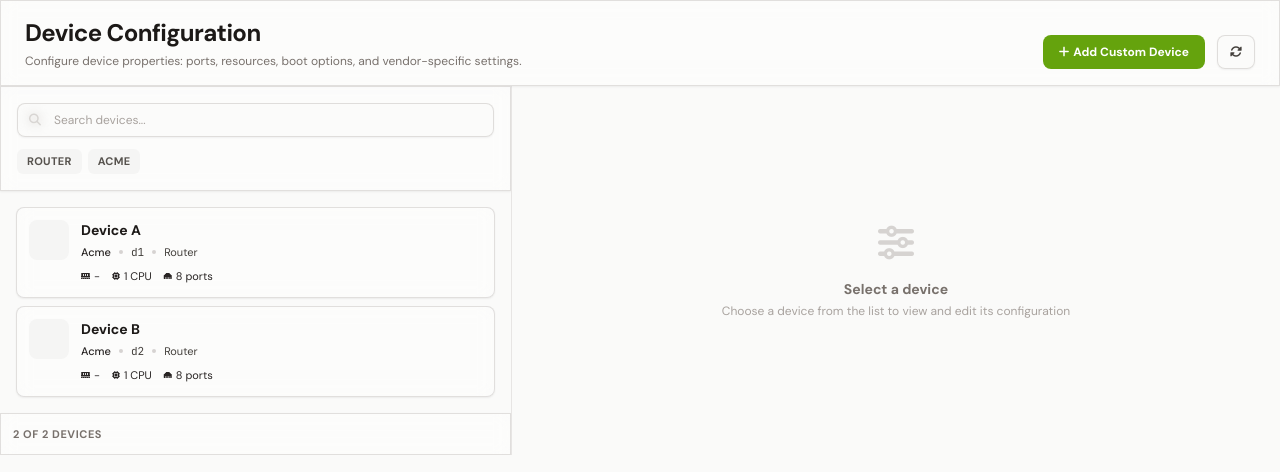
Test: DeviceConfigManager - interactions › filters devices by tag match
This screenshot has width=1280, height=472.
Type "core" into the field with placeholder "Search devices..." at point(256, 120), box [17,103,494,137]
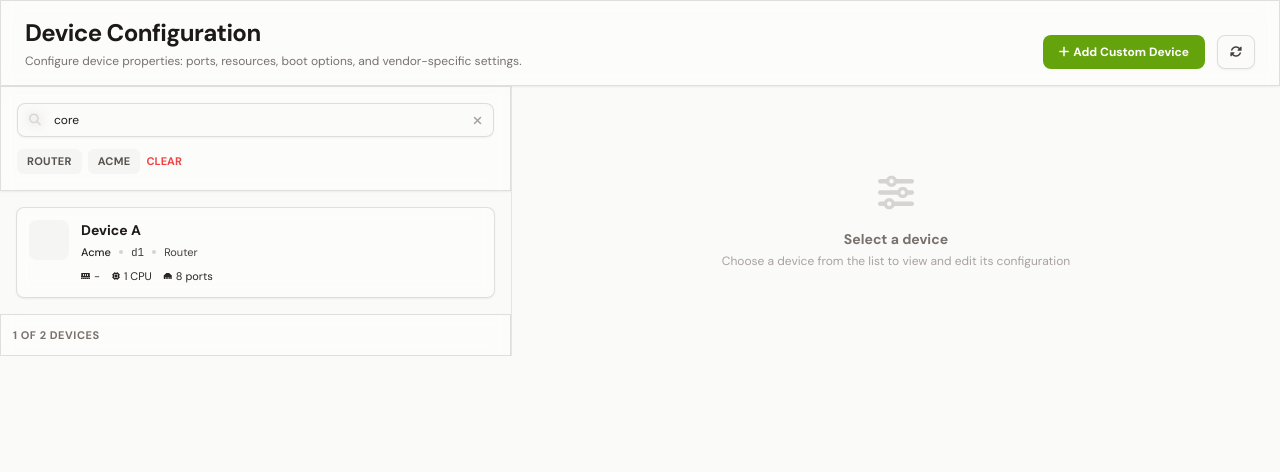
Check: the heading "Device A" is shown, box [81,220,141,240]
Check: the heading "Device B" is gone
